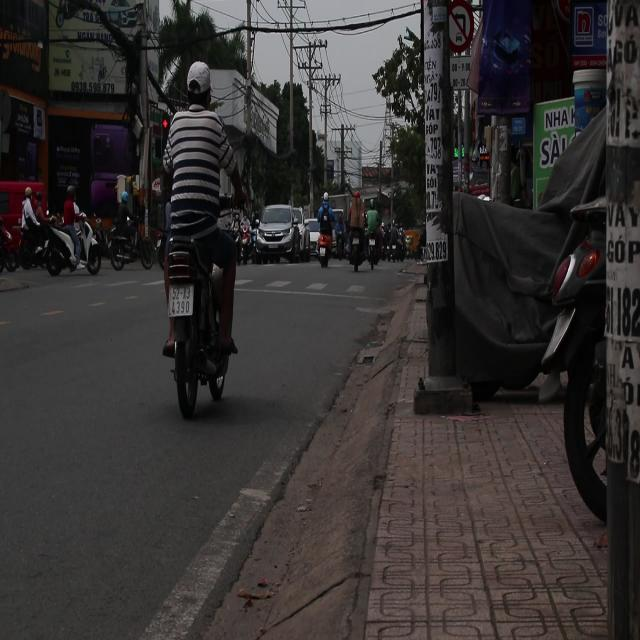car: (256, 205, 310, 263)
motorbike: (158, 206, 246, 418), (42, 211, 102, 281), (106, 204, 156, 284), (13, 193, 50, 270), (363, 206, 394, 285), (342, 184, 366, 280), (307, 202, 332, 277), (236, 222, 257, 266)
